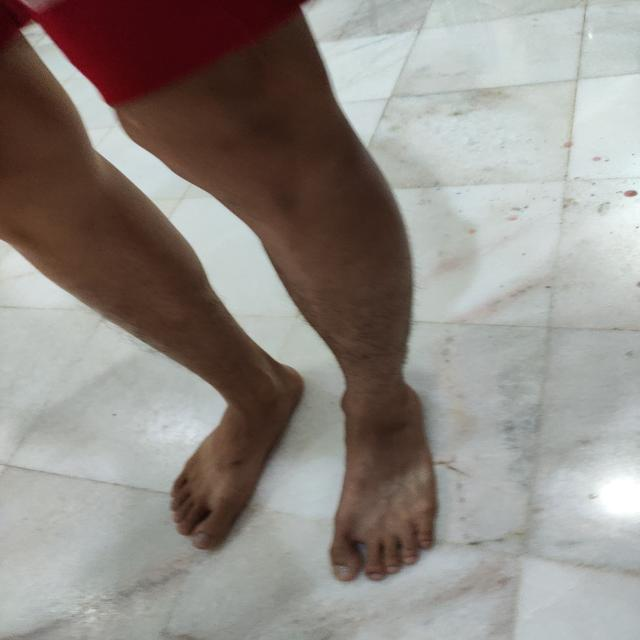No_Shoes: (174, 362, 298, 545), (333, 374, 434, 581)
